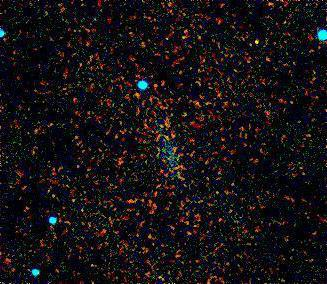star: (241, 24, 271, 54)
